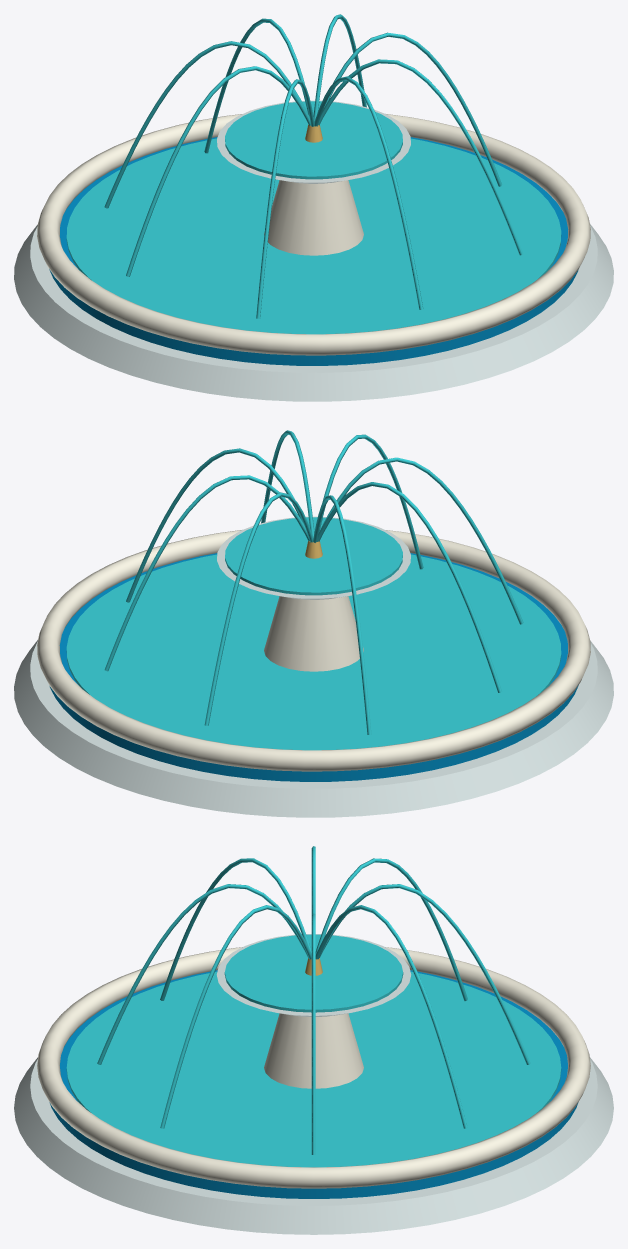
The model's file is air-mancur.glb.
The picture shows the model from 3 angles, top to bottom: view 1: azimuth 30°, elevation 25°; view 2: azimuth 150°, elevation 25°; view 3: azimuth 270°, elevation 25°; orthographic projection.
Parts seen in each view (by area): view 1: Air_Mancur_water, Air_Mancur_ivory, Air_Mancur_trim, Air_Mancur_blue; view 2: Air_Mancur_water, Air_Mancur_ivory, Air_Mancur_trim, Air_Mancur_blue; view 3: Air_Mancur_water, Air_Mancur_ivory, Air_Mancur_trim, Air_Mancur_blue.
Boxes of the visible parts, x1,y1,x2,y2 form: Air_Mancur_water: (66, 14, 561, 334); Air_Mancur_ivory: (37, 114, 590, 355); Air_Mancur_trim: (14, 100, 613, 401); Air_Mancur_blue: (49, 137, 578, 365); Air_Mancur_water: (66, 430, 561, 750); Air_Mancur_ivory: (37, 530, 590, 771); Air_Mancur_trim: (14, 516, 613, 817); Air_Mancur_blue: (49, 553, 578, 781); Air_Mancur_water: (66, 846, 561, 1167); Air_Mancur_ivory: (37, 947, 590, 1188); Air_Mancur_trim: (14, 934, 613, 1234); Air_Mancur_blue: (49, 970, 578, 1198).
Size of the model in its own units: 14.8 by 6.1 by 14.8.
